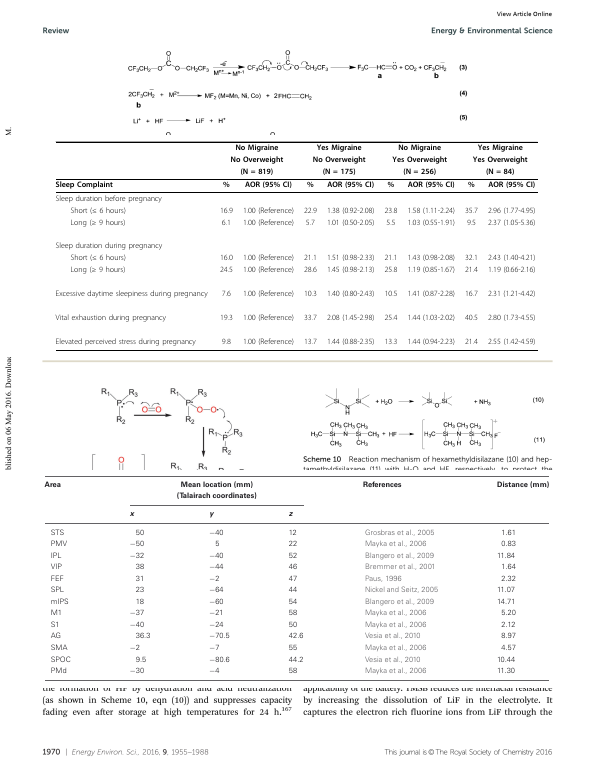borderless: (44, 475, 549, 680), (55, 140, 538, 350)
cell: (176, 481, 258, 501), (55, 290, 209, 299), (55, 338, 197, 347), (55, 194, 163, 204), (55, 242, 163, 252), (55, 314, 167, 323), (364, 586, 439, 595), (364, 564, 436, 573), (364, 529, 435, 538), (364, 552, 435, 561), (364, 598, 435, 607), (69, 206, 127, 216), (69, 254, 127, 264), (69, 218, 126, 228), (69, 266, 126, 276), (364, 621, 427, 630), (364, 644, 427, 653), (364, 667, 427, 676), (55, 181, 114, 190), (242, 206, 295, 216), (242, 218, 295, 228), (242, 254, 295, 264), (242, 266, 295, 276), (364, 633, 421, 642), (364, 656, 421, 665), (391, 156, 448, 165), (364, 541, 427, 549), (364, 610, 427, 618), (472, 156, 528, 165), (406, 206, 456, 216), (406, 218, 456, 228), (406, 254, 456, 264), (406, 266, 456, 276), (326, 206, 375, 216), (487, 206, 536, 216), (326, 218, 375, 228), (487, 218, 536, 228), (326, 254, 375, 264), (487, 254, 536, 264), (326, 266, 375, 276), (487, 266, 536, 276), (230, 156, 284, 165), (312, 156, 366, 165), (242, 290, 295, 299), (242, 314, 295, 323), (242, 338, 295, 347), (406, 290, 456, 299), (406, 314, 456, 323), (406, 338, 456, 347), (244, 181, 293, 190), (326, 181, 375, 190), (487, 181, 536, 190), (326, 290, 375, 299), (487, 290, 536, 299), (326, 314, 375, 323), (487, 314, 536, 323), (326, 338, 375, 347), (487, 338, 536, 347), (496, 481, 550, 489), (407, 181, 455, 190), (316, 144, 363, 153), (477, 144, 524, 153), (234, 144, 279, 153), (397, 144, 442, 153), (364, 575, 403, 584), (362, 481, 403, 489), (239, 168, 274, 177), (402, 168, 437, 177), (322, 168, 356, 177), (485, 168, 515, 177), (208, 633, 231, 642), (208, 656, 231, 665), (50, 656, 72, 665), (496, 552, 516, 561), (496, 586, 516, 595), (50, 598, 70, 607), (496, 598, 516, 607), (496, 656, 516, 665), (496, 667, 516, 676), (50, 644, 68, 653), (50, 667, 68, 676), (208, 529, 225, 538), (500, 529, 517, 538), (208, 552, 225, 561), (208, 564, 225, 573), (500, 564, 517, 573), (500, 575, 517, 584), (208, 586, 225, 595), (208, 598, 225, 607), (208, 610, 225, 619), (208, 621, 225, 630), (500, 633, 517, 642), (500, 644, 517, 653), (43, 481, 62, 489), (219, 206, 234, 216), (303, 206, 318, 216), (383, 206, 398, 216), (464, 206, 479, 216), (219, 254, 234, 264), (303, 254, 318, 264), (383, 254, 398, 264), (464, 254, 479, 264), (219, 266, 234, 276), (303, 266, 318, 276), (383, 266, 398, 276), (464, 266, 479, 276), (50, 541, 68, 549), (129, 552, 145, 561), (129, 610, 145, 619), (129, 621, 145, 630), (500, 621, 516, 630), (135, 633, 151, 642), (288, 633, 304, 642), (288, 656, 304, 665), (129, 667, 145, 676), (500, 541, 517, 549), (500, 610, 517, 618), (50, 529, 65, 538), (50, 575, 65, 584), (50, 586, 65, 595), (303, 290, 318, 299), (383, 290, 398, 299), (464, 290, 479, 299), (219, 314, 234, 323), (303, 314, 318, 323), (383, 314, 398, 323), (464, 314, 479, 323), (303, 338, 318, 347), (383, 338, 398, 347), (464, 338, 479, 347), (129, 541, 145, 549), (50, 552, 63, 561), (50, 564, 63, 573), (50, 610, 63, 619), (221, 218, 232, 228), (305, 218, 316, 228), (385, 218, 396, 228), (466, 218, 477, 228), (208, 575, 220, 584), (50, 633, 62, 642), (129, 644, 141, 653), (208, 644, 220, 653), (135, 656, 147, 665), (208, 667, 220, 676), (221, 290, 232, 299), (221, 338, 232, 347), (135, 529, 145, 538), (288, 529, 298, 538), (288, 552, 298, 561), (135, 564, 145, 573), (288, 564, 298, 573), (135, 575, 145, 584), (288, 575, 298, 584), (135, 586, 145, 595), (288, 586, 298, 595), (135, 598, 145, 607), (288, 598, 298, 607), (288, 610, 298, 619), (50, 621, 60, 630), (288, 621, 298, 630), (288, 644, 298, 653), (288, 667, 298, 676), (222, 181, 231, 190), (306, 181, 315, 190), (386, 181, 395, 190), (467, 181, 476, 190), (288, 541, 298, 549), (214, 541, 220, 549), (129, 512, 135, 519), (208, 512, 214, 519), (288, 512, 293, 519)
